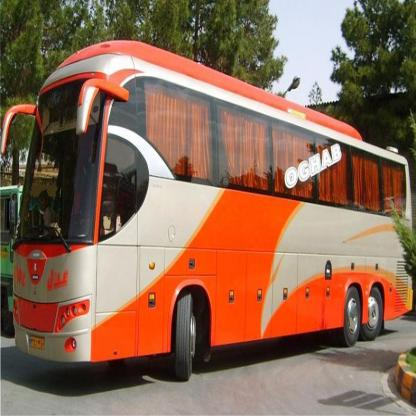Bus: (0, 33, 416, 378)
